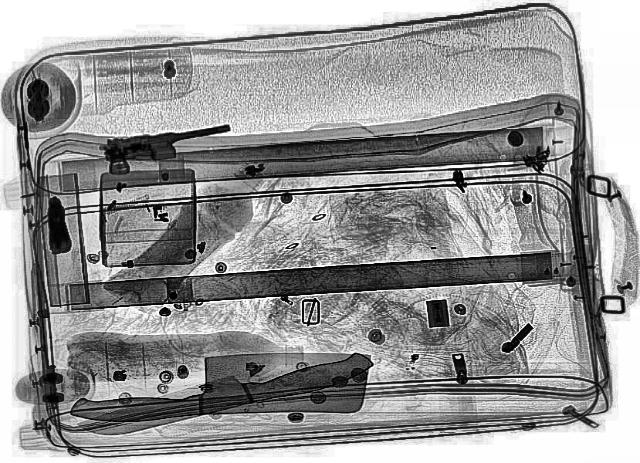Gun: (95, 120, 238, 176), (38, 194, 72, 254)
Knife: (71, 346, 381, 440), (66, 348, 374, 424)
